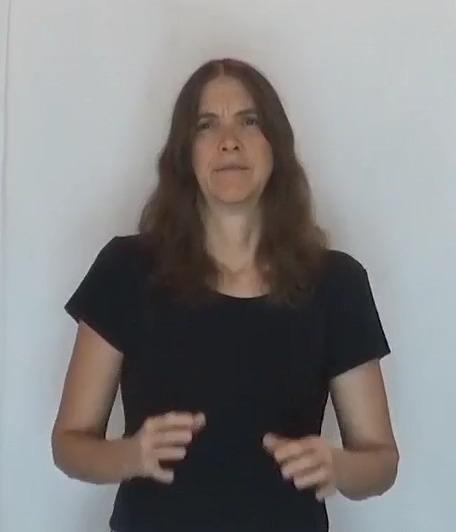Dolor: (42, 48, 417, 510)
